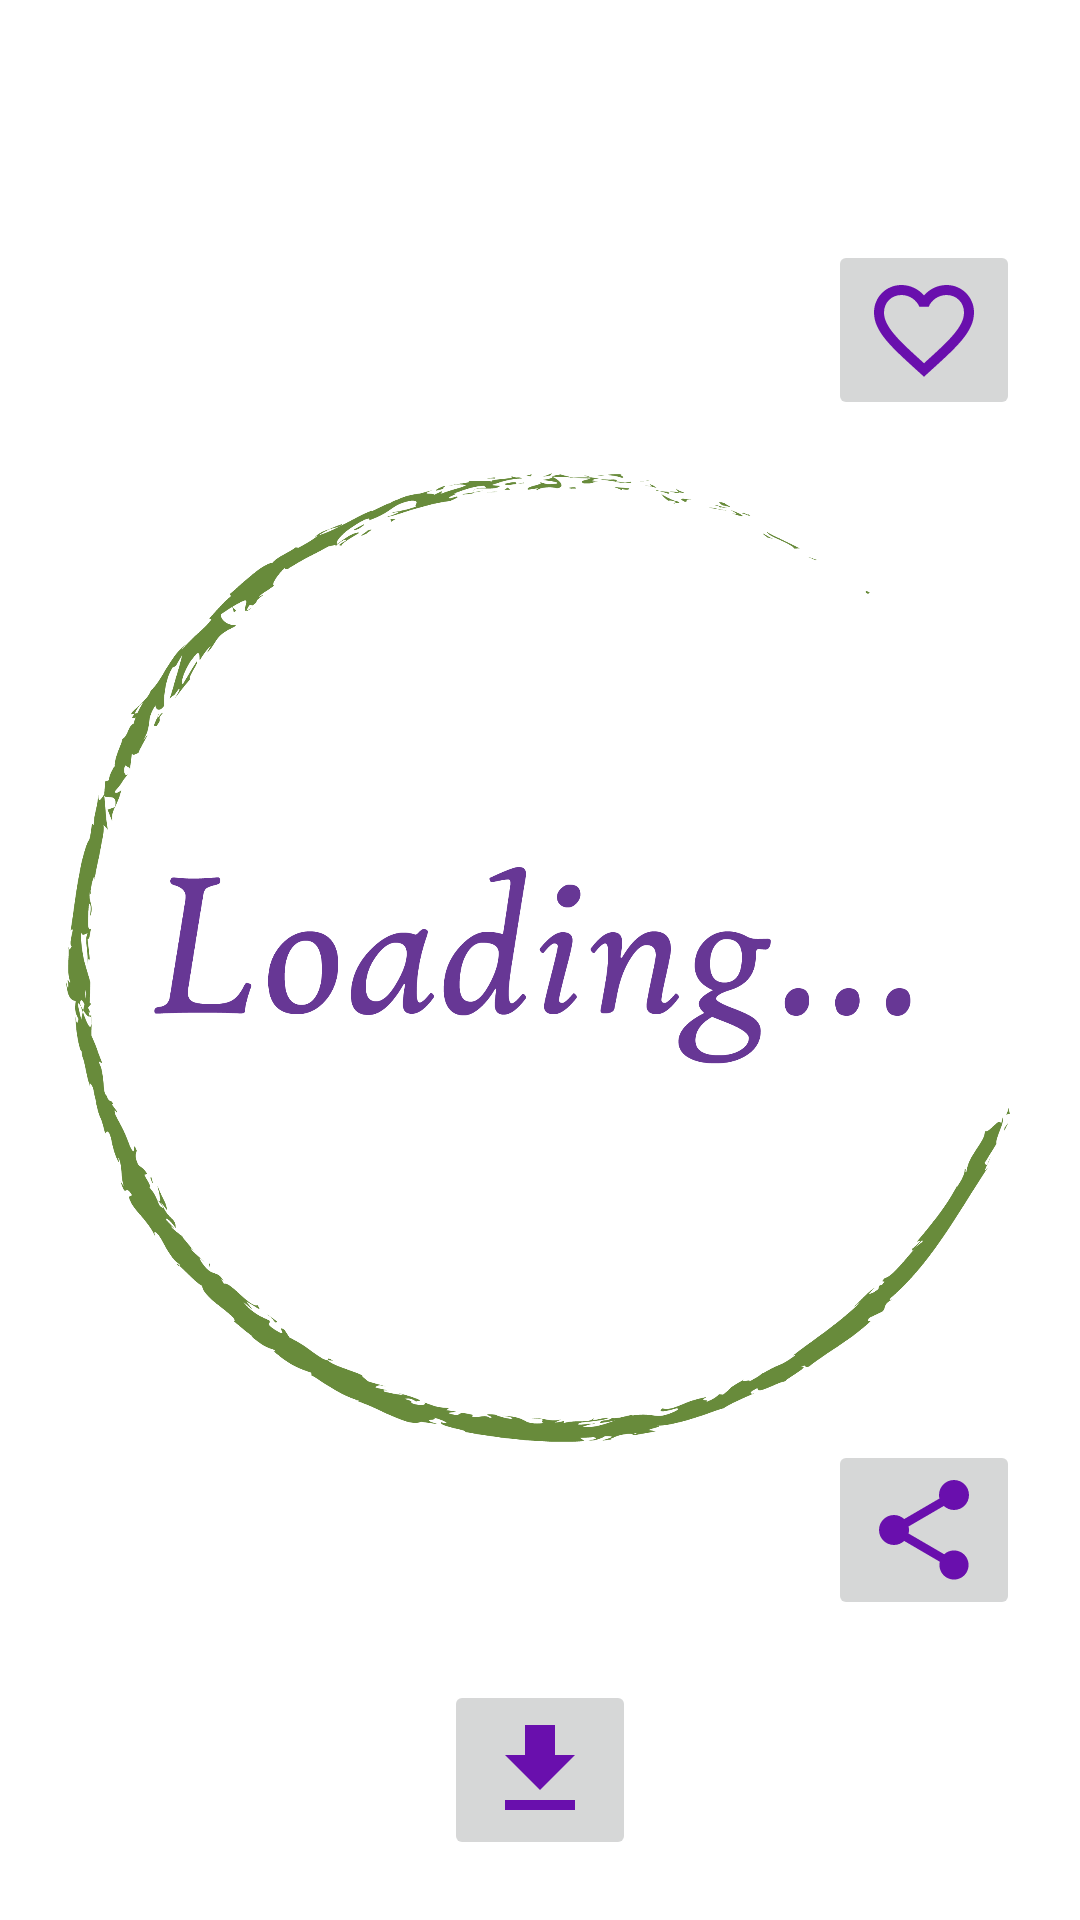

Screen size 1080x1920. Icon name, then its box in pixels as (x1, y1, x2, y2):
download: (456, 1698, 624, 1842)
heart empty: (840, 258, 1008, 402)
share: (840, 1458, 1008, 1602)
